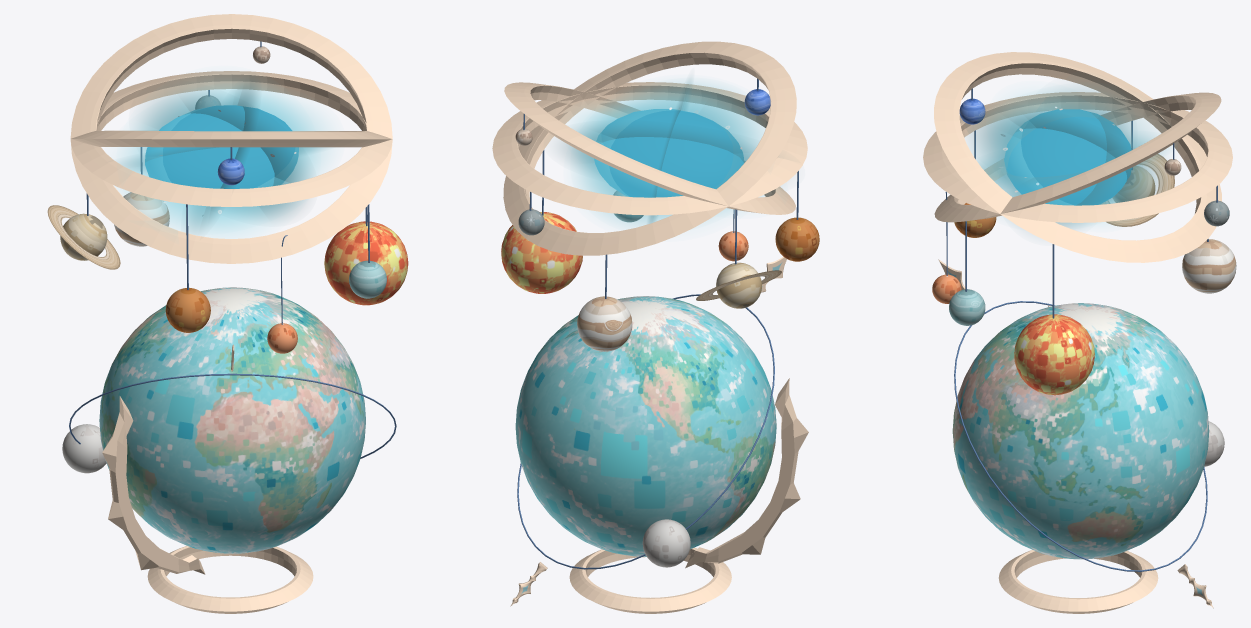
The model's file is globe.glb.
3 views of the same model, side by side, from view 1: azimuth 30°, elevation 25°; view 2: azimuth 150°, elevation 25°; view 3: azimuth 270°, elevation 25° (orthographic). The views are drawn at different scales.
Visible parts, largest first — view 1: Sphere, ring-top2, cosmos, ring-top1, cosmos_core, ring-top3, ring, sun, ruler, saturn, Moon, venus (+5 smaller); view 2: Sphere, ring-top3, cosmos, ring-top1, cosmos_core, ring-top2, ruler, ring, sun, jupiter, saturn, Moon (+4 smaller); view 3: Sphere, ring-top3, cosmos, ring-top1, cosmos_core, ring-top2, sun, ring, jupiter, saturn, rope-moon, uranus (+5 smaller).
Boxes of the visible parts, x1,y1,x2,y2 form: Sphere: (99,287,365,553); ring-top2: (70,14,392,263); cosmos: (116,78,331,235); ring-top1: (70,71,392,206); cosmos_core: (145,105,298,188); ring-top3: (71,130,392,147); ring: (147,546,313,613); sun: (324,221,408,305); ruler: (102,396,205,574); saturn: (47,205,120,269); Moon: (62,424,106,473); venus: (165,287,210,332); Sphere: (515,296,776,556); ring-top3: (503,41,796,255); cosmos: (561,77,765,227); ring-top1: (492,82,807,215); cosmos_core: (594,109,744,197); ring-top2: (504,82,795,214); ruler: (685,378,808,568); ring: (569,547,731,613); sun: (501,212,582,293); jupiter: (577,296,632,351); saturn: (696,262,781,308); Moon: (642,519,690,567); Sphere: (952,303,1209,559); ring-top3: (934,52,1221,262); cosmos: (970,86,1167,229); ring-top1: (923,92,1232,222); cosmos_core: (1004,109,1131,205); ring-top2: (934,92,1221,222); sun: (1014,314,1094,395); ring: (998,550,1158,613); jupiter: (1182,239,1236,293); saturn: (1101,153,1174,226); rope-moon: (954,301,1207,571); uranus: (949,289,985,325).
Size of the model in its own units: 109 by 169 by 95.96.
32 materials, 15 textured.
